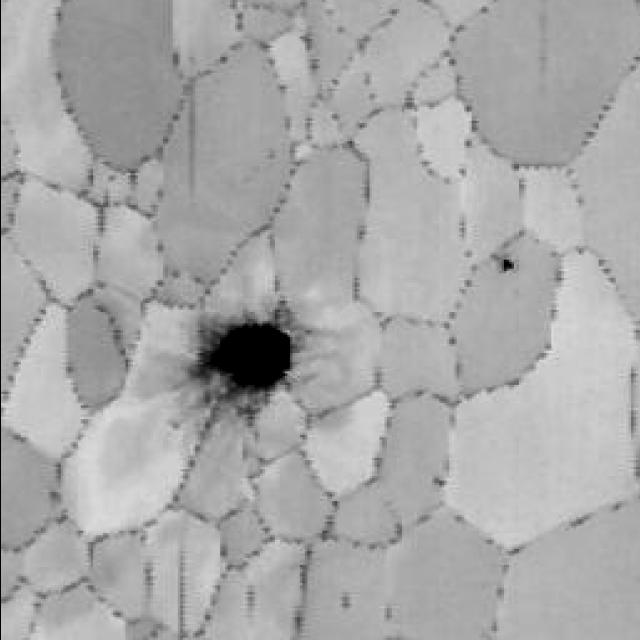good_void: (179, 321, 296, 422), (496, 256, 517, 273), (432, 474, 450, 492)
